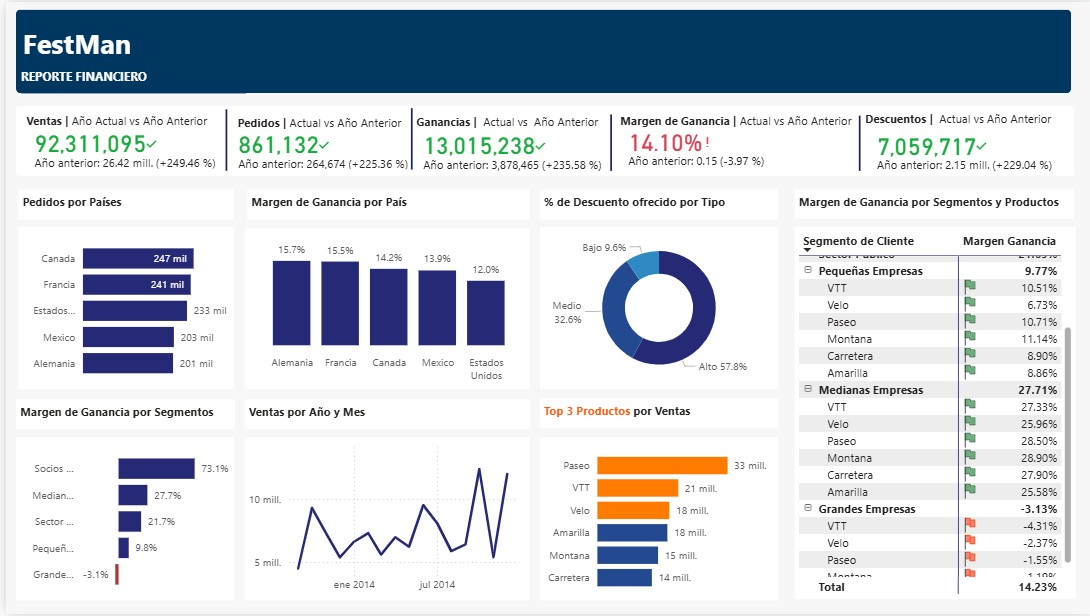

The page's visual inventory and layout, read from the dashboard file:
{"tool":"powerbi","page":{"name":"FestMan","canvas":[1280,720],"ordinal":0},"visuals":[{"type":"shape","box":[11.1,9.5,1241.3,98.4],"z":0},{"type":"textbox","box":[14.7,21.3,265.3,56],"z":1000},{"type":"textbox","box":[17.3,77.3,264,29.3],"z":2000},{"type":"shape","box":[11.6,121.7,1244.9,82.6],"z":3000},{"type":"kpi","fields":{"Indicator":["Analisis.Cuenta Ventas"],"TrendLine":["Fecha Table.Año"],"Goal":["Analisis.Cuenta Ventas LY"]},"box":[20.6,155.9,239.7,39.7],"z":4000},{"type":"textbox","box":[18.4,125.2,236.8,29.4],"z":5000},{"type":"kpi","fields":{"Indicator":["Analisis.Ordenes"],"TrendLine":["Fecha Table.Año"],"Goal":["Analisis.Ordenes LY"]},"box":[260.1,157.1,229.4,39.3],"z":6000},{"type":"shape","box":[250.7,126.7,18.7,72],"z":7000},{"type":"textbox","box":[267.2,127.3,222.1,29.4],"z":8000},{"type":"kpi","fields":{"Indicator":["Analisis.Ganancia"],"TrendLine":["Fecha Table.Año"],"Goal":["Analisis.Ganancia LY"]},"box":[477.3,157.3,233.3,41.3],"z":9000},{"type":"textbox","box":[477.3,126.4,236.8,28.2],"z":10000},{"type":"shape","box":[464,125.3,25.3,72],"z":11000},{"type":"kpi","fields":{"Indicator":["Analisis.Margen Ganancia"],"TrendLine":["Fecha Table.Año"],"Goal":["Analisis.Margen Ganancia LY"]},"box":[719,149.7,276.1,46.6],"z":12000},{"type":"shape","box":[703.8,132.5,15,66.2],"z":13000},{"type":"textbox","box":[718,124.8,294.5,29.4],"z":14000},{"type":"textbox","box":[1006.1,123.9,245.4,31.9],"z":15000},{"type":"shape","box":[995,133.8,17.5,65],"z":16000},{"type":"kpi","fields":{"Indicator":["Analisis.Descuento ofrecido"],"TrendLine":["Fecha Table.Año"],"Goal":["Analisis.Descuento Ofrecido LY"]},"box":[1012.3,157.1,239.3,41.7],"z":17000},{"type":"barChart","fields":{"Y":["Analisis.Ordenes"],"Category":["Financial.Pais"]},"box":[14.3,265.1,254,190.5],"z":18000},{"type":"columnChart","fields":{"Y":["Analisis.Margen Ganancia"],"Category":["Financial.Pais"]},"box":[281,266.7,334.9,188.9],"z":19000},{"type":"donutChart","title":"% de Descuento ofrecido por tipo ","fields":{"Category":["Financial.Descuento"],"Y":["Analisis.Descuento ofrecido"]},"box":[628.6,265.1,281,190.5],"z":20000},{"type":"textbox","box":[14.3,220.6,254,34.9],"z":21000},{"type":"textbox","box":[284.1,220.6,331.7,34.9],"z":22000},{"type":"textbox","box":[628.6,220.6,281,34.9],"z":23000},{"type":"barChart","fields":{"Y":["Analisis.Margen Ganancia"],"Category":["Financial.Segmento de Cliente"]},"box":[11.1,511.1,257.1,192.1],"z":24000},{"type":"textbox","box":[11,467.5,257.7,34.4],"z":25000},{"type":"textbox","box":[280.7,467.3,335.6,34.7],"z":26000},{"type":"barChart","title":"% de Descuento ofrecido por tipo ","fields":{"Category":["Financial.Producto"],"Y":["Analisis.Cuenta Ventas"]},"box":[628.6,511.1,281,192.1],"z":27000},{"type":"textbox","box":[628.6,466.7,281,34.9],"z":28000},{"type":"lineChart","fields":{"Category":["Fecha Table.Fecha.Variación.Jerarquía de fechas.Año","Fecha Table.Fecha.Variación.Jerarquía de fechas.Mes"],"Y":["Analisis.Cuenta Ventas"]},"box":[281,511.1,334.9,192.1],"z":29000},{"type":"pivotTable","fields":{"Values":["Analisis.Margen Ganancia"],"Rows":["Financial.Segmento de Cliente","Financial.Producto"]},"box":[928,265.3,330.7,437.3],"z":30000},{"type":"textbox","box":[927.5,220.3,329,34.8],"z":31000}]}

Visuals, with their boxes in screenshot pixels (x1, y1, x2, y2), scaled from the page's 1280x720 canvas onto the 1090x616 screenshot:
shape: (x1=9, y1=8, x2=1066, y2=92)
textbox: (x1=13, y1=18, x2=238, y2=66)
textbox: (x1=15, y1=66, x2=240, y2=91)
shape: (x1=10, y1=104, x2=1070, y2=175)
kpi - Analisis.Cuenta Ventas x Fecha Table.Año: (x1=18, y1=133, x2=222, y2=167)
textbox: (x1=16, y1=107, x2=217, y2=132)
kpi - Analisis.Ordenes x Fecha Table.Año: (x1=221, y1=134, x2=417, y2=168)
shape: (x1=213, y1=108, x2=229, y2=170)
textbox: (x1=228, y1=109, x2=417, y2=134)
kpi - Analisis.Ganancia x Fecha Table.Año: (x1=406, y1=135, x2=605, y2=170)
textbox: (x1=406, y1=108, x2=608, y2=132)
shape: (x1=395, y1=107, x2=417, y2=169)
kpi - Analisis.Margen Ganancia x Fecha Table.Año: (x1=612, y1=128, x2=847, y2=168)
shape: (x1=599, y1=113, x2=612, y2=170)
textbox: (x1=611, y1=107, x2=862, y2=132)
textbox: (x1=857, y1=106, x2=1066, y2=133)
shape: (x1=847, y1=114, x2=862, y2=170)
kpi - Analisis.Descuento ofrecido x Fecha Table.Año: (x1=862, y1=134, x2=1066, y2=170)
barChart - Analisis.Ordenes x Financial.Pais: (x1=12, y1=227, x2=228, y2=390)
columnChart - Analisis.Margen Ganancia x Financial.Pais: (x1=239, y1=228, x2=524, y2=390)
"% de Descuento ofrecido por tipo " donutChart: (x1=535, y1=227, x2=775, y2=390)
textbox: (x1=12, y1=189, x2=228, y2=219)
textbox: (x1=242, y1=189, x2=524, y2=219)
textbox: (x1=535, y1=189, x2=775, y2=219)
barChart - Analisis.Margen Ganancia x Financial.Segmento de Cliente: (x1=9, y1=437, x2=228, y2=602)
textbox: (x1=9, y1=400, x2=229, y2=429)
textbox: (x1=239, y1=400, x2=525, y2=429)
"% de Descuento ofrecido por tipo " barChart: (x1=535, y1=437, x2=775, y2=602)
textbox: (x1=535, y1=399, x2=775, y2=429)
lineChart - Fecha Table.Fecha.Variación.Jerarquía de fechas.Año x Fecha Table.Fecha.Variación.Jerarquía de fechas.Mes: (x1=239, y1=437, x2=524, y2=602)
pivotTable - Analisis.Margen Ganancia x Financial.Segmento de Cliente: (x1=790, y1=227, x2=1072, y2=601)
textbox: (x1=790, y1=188, x2=1070, y2=218)
